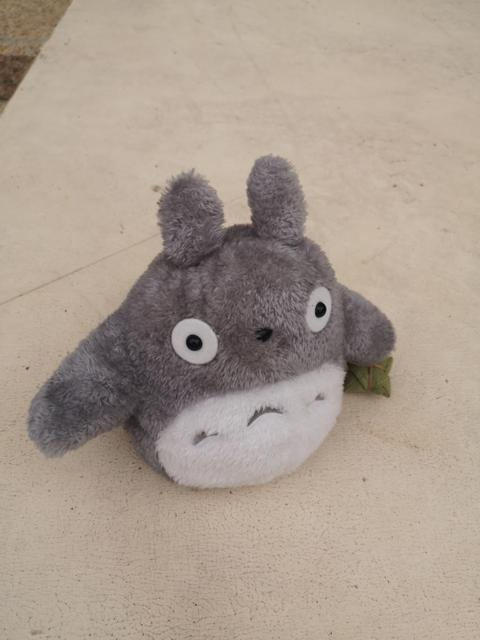totoro: (26, 148, 397, 495)
